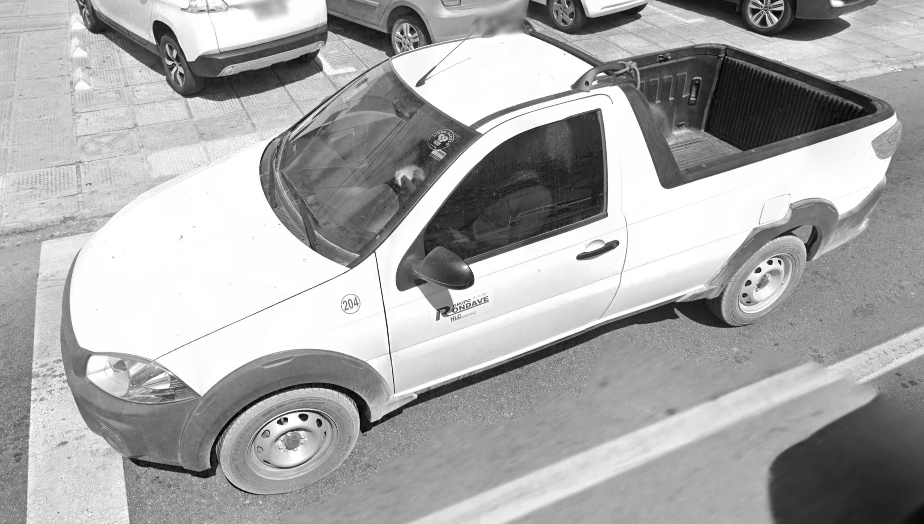car: (61, 33, 900, 493)
